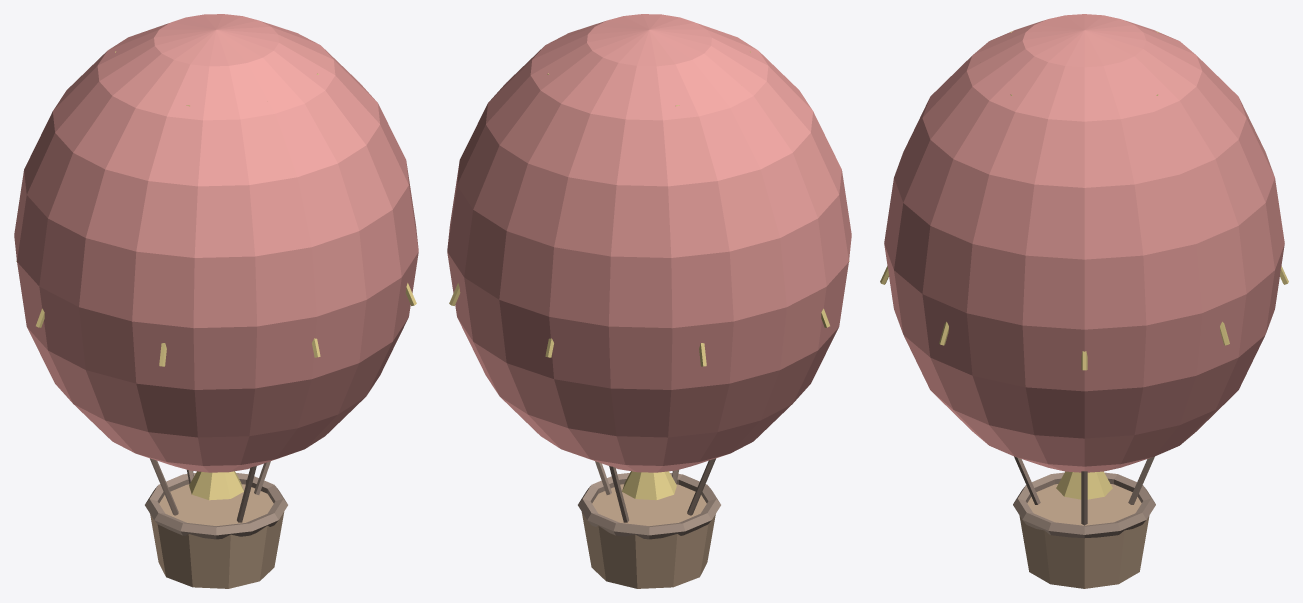
Rendered from globo_rojo.glb.
3 renders of one model, left to right at view 1: azimuth 30°, elevation 25°; view 2: azimuth 150°, elevation 25°; view 3: azimuth 270°, elevation 25°, orthographic.
Parts seen in each view (by area): view 1: globo_rojo; view 2: globo_rojo; view 3: globo_rojo.
Part boxes in pixels (x1=…): globo_rojo: x1=14, y1=14, x2=418, y2=588; globo_rojo: x1=447, y1=14, x2=851, y2=588; globo_rojo: x1=880, y1=14, x2=1288, y2=588.
Bounding box in the file's own units: 3.22 × 4.56 × 3.16.
